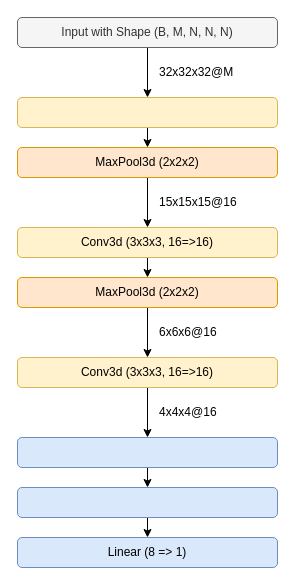
Some shapes in this 295 by 585 pixel diagram are drawn without their labels. Here are the shapes that lost their labels. From the top down, the centre of each, then its label:
At [147,112]: "Conv3d (3x3x3, M=>16)".
At [147,452]: "Linear (1024 => 32)".
At [147,502]: "Linear (32 => 8)".
